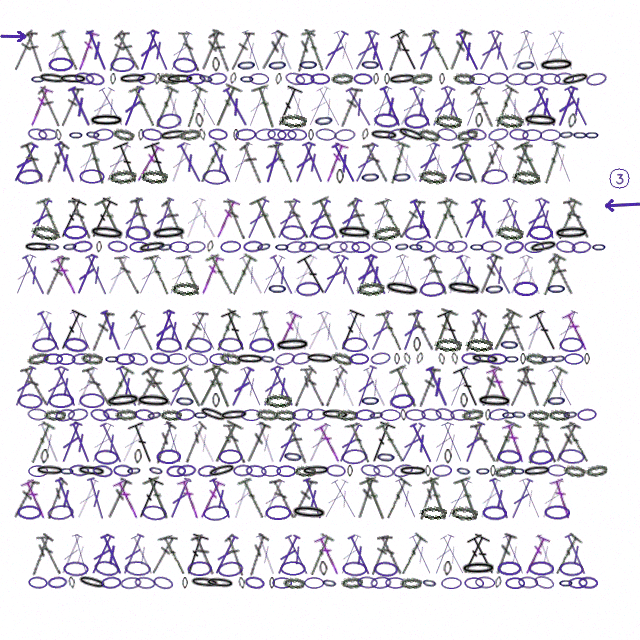chain: (383, 279, 421, 299), (445, 279, 483, 298), (104, 391, 142, 410), (88, 224, 126, 242), (150, 224, 188, 242), (395, 124, 427, 145), (197, 404, 229, 425), (290, 504, 328, 521), (522, 112, 559, 129), (336, 224, 373, 241), (206, 461, 238, 480), (76, 573, 108, 592), (371, 223, 401, 243), (538, 57, 575, 73), (553, 225, 590, 241), (274, 337, 311, 353), (135, 393, 172, 409), (476, 393, 513, 409), (30, 223, 60, 242), (560, 70, 591, 88), (88, 113, 125, 128), (460, 561, 497, 576), (528, 238, 559, 255), (93, 559, 120, 578), (158, 127, 189, 143), (137, 239, 168, 255), (495, 112, 524, 129), (108, 168, 137, 185), (418, 168, 447, 185), (495, 224, 524, 241), (356, 280, 385, 297), (186, 336, 213, 354), (217, 560, 244, 578), (172, 56, 198, 74), (156, 112, 182, 130), (63, 336, 89, 354), (141, 504, 167, 522), (37, 71, 68, 86), (189, 575, 220, 590), (16, 168, 43, 185), (481, 168, 508, 185), (341, 448, 368, 465), (558, 448, 585, 465), (47, 504, 74, 521), (124, 560, 151, 577), (434, 113, 462, 129), (512, 169, 540, 185), (450, 505, 478, 521), (373, 112, 399, 129), (280, 224, 306, 241), (404, 224, 430, 241), (387, 72, 418, 86), (76, 464, 107, 478), (202, 169, 229, 185), (419, 281, 446, 297), (279, 113, 307, 128), (369, 128, 399, 142), (140, 169, 168, 184), (171, 281, 199, 296), (434, 337, 462, 352), (465, 337, 493, 352), (470, 352, 500, 366), (264, 393, 292, 408), (219, 408, 249, 422), (522, 464, 552, 478), (419, 505, 447, 520), (205, 576, 235, 590), (125, 225, 151, 241), (156, 337, 182, 353), (17, 393, 43, 409), (389, 393, 415, 409), (528, 449, 554, 465), (203, 505, 229, 521), (63, 561, 89, 577), (373, 561, 399, 577), (26, 350, 50, 367), (330, 350, 354, 367), (404, 113, 429, 129), (296, 281, 321, 297), (32, 337, 57, 353), (218, 337, 243, 353), (249, 337, 274, 353), (94, 449, 119, 465), (497, 449, 522, 465), (482, 505, 507, 521), (342, 561, 367, 577), (559, 561, 584, 577), (487, 126, 510, 143), (118, 72, 148, 85), (79, 169, 105, 184), (342, 337, 368, 352), (305, 352, 335, 365), (48, 393, 74, 408), (79, 393, 105, 408), (320, 408, 350, 421), (35, 464, 65, 477), (301, 464, 331, 477), (265, 505, 291, 520), (544, 505, 570, 520), (280, 561, 306, 576), (528, 561, 554, 576), (417, 127, 441, 143), (455, 127, 479, 143), (493, 463, 517, 479), (48, 57, 73, 72), (110, 57, 135, 72), (63, 225, 88, 240), (311, 225, 336, 240), (528, 225, 553, 240), (513, 281, 538, 296), (559, 337, 584, 352), (156, 449, 181, 464), (218, 449, 243, 464), (17, 505, 42, 520), (187, 561, 212, 576), (497, 561, 522, 576), (313, 112, 335, 129), (453, 168, 475, 185), (434, 406, 456, 423), (282, 448, 304, 465), (392, 462, 414, 479), (533, 574, 555, 591), (585, 71, 608, 87), (372, 463, 395, 479), (58, 73, 88, 85), (165, 73, 195, 85), (23, 241, 53, 253), (235, 353, 265, 365), (398, 465, 428, 477), (515, 57, 537, 73), (84, 71, 106, 87), (284, 71, 306, 87), (391, 169, 413, 185), (503, 239, 525, 255), (127, 351, 149, 367), (187, 351, 209, 367), (274, 351, 296, 367), (174, 393, 196, 409), (54, 407, 76, 423), (89, 407, 111, 423), (375, 449, 397, 465), (152, 575, 174, 591), (410, 71, 433, 86), (112, 127, 135, 142), (178, 127, 201, 142), (219, 351, 242, 366), (461, 407, 484, 422), (585, 463, 608, 478), (236, 57, 257, 73), (267, 57, 288, 73), (360, 169, 381, 185), (484, 281, 505, 297), (141, 127, 163, 142), (436, 127, 458, 142), (67, 407, 89, 422), (488, 407, 510, 422), (563, 464, 586, 478), (298, 57, 319, 72), (360, 57, 381, 72), (74, 71, 95, 86), (137, 71, 158, 86), (27, 127, 48, 142), (387, 127, 408, 142), (466, 127, 487, 142), (415, 239, 436, 254), (434, 239, 455, 254), (447, 239, 468, 254), (555, 239, 576, 254), (267, 281, 288, 296), (546, 281, 567, 296), (499, 337, 520, 352), (291, 351, 312, 366), (370, 351, 391, 366), (360, 393, 381, 408), (546, 393, 567, 408), (102, 407, 123, 422), (360, 463, 381, 478), (244, 575, 265, 590), (506, 72, 528, 86), (334, 128, 356, 142), (285, 240, 307, 254), (245, 464, 267, 478), (120, 576, 142, 590), (134, 576, 156, 590), (523, 72, 544, 86), (185, 240, 206, 254), (298, 240, 319, 254), (327, 240, 348, 254), (339, 240, 360, 254), (571, 240, 592, 254), (71, 352, 92, 366), (134, 408, 155, 422), (92, 464, 113, 478), (197, 464, 218, 478), (158, 72, 180, 85), (331, 72, 353, 85), (453, 72, 475, 85), (315, 128, 337, 141), (81, 352, 103, 365), (525, 352, 547, 365), (115, 408, 137, 421), (256, 408, 278, 421), (341, 576, 363, 589), (370, 576, 392, 589), (207, 72, 228, 85), (93, 128, 114, 141), (235, 128, 256, 141), (255, 128, 276, 141), (72, 240, 93, 253), (107, 240, 128, 253), (220, 240, 241, 253), (481, 240, 502, 253), (27, 408, 48, 421), (175, 408, 196, 421), (292, 408, 313, 421), (421, 408, 442, 421), (176, 464, 197, 477), (47, 576, 68, 589), (357, 576, 378, 589), (197, 71, 215, 86), (255, 239, 273, 254), (147, 463, 165, 478), (44, 409, 66, 421), (160, 409, 182, 421), (274, 409, 296, 421), (336, 409, 358, 421), (527, 409, 549, 421), (548, 409, 570, 421), (294, 465, 316, 477), (283, 577, 305, 589), (400, 577, 422, 589), (488, 72, 508, 85), (554, 72, 574, 85), (38, 128, 58, 141), (208, 128, 228, 141), (267, 128, 287, 141), (287, 128, 307, 141), (509, 128, 529, 141), (243, 240, 263, 253), (150, 352, 170, 365), (461, 352, 481, 365), (307, 408, 327, 421), (577, 408, 597, 421), (69, 464, 89, 477), (113, 464, 133, 477), (233, 464, 253, 477), (326, 464, 346, 477), (432, 464, 452, 477), (547, 464, 567, 477), (28, 576, 48, 589), (101, 576, 121, 589), (475, 576, 495, 589), (518, 576, 538, 589), (578, 576, 598, 589), (469, 73, 490, 85), (540, 73, 561, 85), (540, 129, 561, 141), (241, 409, 262, 421), (380, 409, 401, 421), (405, 409, 426, 421), (450, 409, 471, 421), (385, 577, 406, 589), (441, 577, 462, 589), (186, 73, 206, 85), (249, 73, 269, 85), (295, 73, 315, 85), (310, 73, 330, 85), (353, 73, 373, 85), (277, 129, 297, 141), (522, 129, 542, 141), (129, 241, 149, 253), (169, 241, 189, 253), (351, 241, 371, 253), (371, 241, 391, 253), (524, 241, 544, 253), (43, 353, 63, 365), (56, 353, 76, 365), (115, 353, 135, 365), (167, 353, 187, 365), (209, 353, 229, 365), (349, 353, 369, 365), (487, 353, 507, 365), (564, 353, 584, 365), (355, 409, 375, 421), (28, 465, 48, 477), (166, 465, 186, 477), (261, 465, 281, 477), (276, 465, 296, 477), (272, 577, 292, 589), (304, 577, 324, 589), (464, 577, 484, 589), (505, 577, 525, 589), (568, 577, 588, 589), (157, 240, 174, 254), (259, 352, 276, 366), (540, 352, 557, 366), (146, 408, 163, 422), (368, 408, 385, 422), (455, 464, 472, 478), (321, 576, 338, 590), (421, 576, 438, 590), (558, 128, 575, 141), (44, 240, 61, 253), (550, 352, 567, 365), (562, 408, 579, 421), (85, 128, 101, 141), (62, 240, 78, 253), (316, 240, 332, 253), (394, 240, 410, 253), (511, 408, 527, 421), (126, 464, 142, 477), (30, 73, 46, 85), (239, 73, 255, 85), (68, 129, 84, 141), (572, 129, 588, 141), (584, 129, 600, 141), (274, 241, 290, 253), (408, 241, 424, 253), (469, 241, 485, 253), (591, 241, 607, 253), (104, 353, 120, 365), (504, 353, 520, 365), (193, 409, 209, 421), (501, 409, 517, 421), (59, 465, 75, 477), (475, 465, 491, 477), (510, 465, 526, 477), (558, 577, 574, 589), (567, 113, 577, 129), (195, 113, 204, 128), (40, 449, 49, 464), (319, 561, 328, 576), (443, 561, 452, 576), (212, 57, 220, 72), (475, 113, 483, 128), (336, 169, 344, 184), (413, 337, 421, 352), (212, 393, 220, 408), (460, 393, 468, 408), (134, 449, 142, 464), (444, 449, 452, 464), (198, 128, 207, 141), (403, 352, 412, 365), (415, 352, 424, 365), (229, 72, 237, 85), (361, 128, 369, 141), (206, 240, 214, 253), (451, 352, 459, 365), (68, 576, 76, 589), (494, 576, 502, 589), (438, 353, 446, 365), (238, 577, 246, 589), (154, 73, 161, 85), (275, 73, 282, 85), (55, 129, 62, 141), (400, 409, 407, 421), (110, 73, 116, 85), (373, 73, 379, 85), (384, 73, 390, 85), (439, 73, 445, 85), (138, 129, 144, 141), (233, 129, 239, 141), (308, 129, 314, 141), (96, 241, 102, 253), (394, 353, 400, 365), (520, 353, 526, 365), (584, 353, 590, 365), (485, 409, 491, 421), (347, 465, 353, 477), (425, 465, 431, 477), (490, 465, 496, 477), (182, 577, 188, 589), (269, 577, 275, 589)
double: (513, 140, 549, 186), (296, 252, 332, 298), (487, 308, 523, 354), (172, 364, 208, 410), (193, 364, 229, 410), (208, 420, 244, 466), (249, 195, 284, 242), (389, 28, 424, 74), (94, 196, 129, 242), (528, 308, 563, 354), (389, 364, 424, 410), (466, 532, 501, 578), (209, 83, 243, 130), (312, 195, 346, 242), (488, 419, 522, 466), (142, 475, 176, 522), (549, 532, 584, 577), (54, 196, 88, 242), (85, 196, 119, 242), (54, 308, 88, 354), (457, 532, 491, 578), (194, 140, 228, 185), (374, 196, 408, 241), (101, 364, 135, 409), (535, 364, 569, 409), (374, 420, 408, 465), (395, 532, 429, 577), (271, 84, 304, 130), (452, 140, 485, 186), (436, 308, 469, 354), (204, 364, 237, 410), (452, 364, 485, 410), (132, 476, 165, 522), (359, 476, 392, 522), (141, 365, 176, 408), (488, 196, 521, 241), (204, 252, 237, 297), (225, 252, 258, 297), (560, 420, 593, 465), (380, 476, 413, 521), (157, 532, 190, 577), (112, 140, 144, 186), (220, 308, 252, 354), (334, 308, 366, 354), (427, 308, 459, 354), (127, 420, 159, 466), (365, 420, 397, 466), (422, 476, 454, 522), (453, 476, 485, 522), (85, 85, 118, 129), (95, 85, 128, 129), (188, 85, 221, 129), (343, 85, 376, 129), (395, 85, 428, 129), (101, 141, 134, 185), (132, 141, 165, 185), (318, 253, 351, 297), (545, 365, 578, 409), (328, 477, 361, 521), (442, 477, 475, 521), (50, 28, 82, 73), (422, 28, 454, 73), (536, 28, 568, 73), (127, 84, 159, 129), (148, 84, 180, 129), (561, 84, 593, 129), (427, 196, 459, 241), (551, 196, 583, 241), (210, 308, 242, 353), (375, 308, 407, 353), (267, 364, 299, 409), (24, 420, 56, 465), (236, 476, 268, 521), (303, 532, 335, 577), (251, 84, 282, 130), (143, 140, 174, 186), (257, 29, 289, 73), (319, 29, 351, 73), (350, 29, 382, 73), (474, 29, 506, 73), (546, 29, 578, 73), (220, 85, 252, 129), (313, 85, 345, 129), (499, 85, 531, 129), (9, 141, 41, 185), (174, 141, 206, 185), (391, 141, 423, 185), (189, 197, 221, 241), (520, 197, 552, 241), (236, 253, 268, 297), (288, 253, 320, 297), (484, 253, 516, 297), (344, 309, 376, 353), (313, 421, 345, 465), (396, 421, 428, 465), (319, 477, 351, 521), (437, 533, 469, 577), (65, 84, 96, 129), (303, 84, 334, 129), (489, 84, 520, 129), (267, 140, 298, 185), (437, 196, 468, 241), (143, 252, 174, 297), (381, 252, 412, 297), (536, 252, 567, 297), (344, 420, 375, 465), (86, 532, 117, 577), (406, 532, 437, 577), (499, 532, 530, 577), (82, 140, 112, 186), (180, 532, 210, 578), (112, 29, 144, 72), (453, 29, 484, 73), (427, 85, 458, 129), (329, 141, 360, 185), (350, 141, 381, 185), (443, 141, 474, 185), (272, 197, 303, 241), (303, 197, 334, 241), (468, 197, 499, 241), (19, 253, 50, 297), (50, 253, 81, 297), (133, 253, 164, 297), (164, 253, 195, 297), (257, 253, 288, 297), (267, 253, 298, 297), (412, 253, 443, 297), (443, 253, 474, 297), (453, 253, 484, 297), (505, 253, 536, 297), (34, 309, 65, 353), (117, 309, 148, 353), (189, 309, 220, 353), (272, 309, 303, 353), (303, 309, 334, 353), (561, 309, 592, 353), (40, 365, 71, 409), (164, 365, 195, 409), (226, 365, 257, 409), (360, 365, 391, 409), (86, 421, 117, 465), (117, 421, 148, 465), (189, 421, 220, 465), (334, 421, 365, 465), (551, 421, 582, 465), (112, 477, 143, 521), (195, 477, 226, 521), (210, 533, 241, 577), (272, 533, 303, 577), (282, 533, 313, 577), (313, 533, 344, 577), (520, 533, 551, 577), (82, 28, 112, 73), (268, 28, 298, 73), (376, 84, 406, 129), (531, 84, 561, 129), (35, 196, 65, 241), (211, 196, 241, 241), (335, 196, 365, 241), (175, 252, 205, 297), (66, 308, 96, 353), (51, 364, 81, 409), (237, 364, 267, 409), (423, 364, 453, 409), (485, 364, 515, 409), (206, 476, 236, 521), (56, 532, 86, 577), (97, 532, 127, 577), (474, 141, 505, 184), (133, 365, 164, 408), (165, 29, 195, 73), (521, 85, 551, 129), (206, 141, 236, 185), (413, 141, 443, 185), (423, 141, 453, 185), (485, 141, 515, 185), (25, 197, 55, 241), (242, 197, 272, 241), (407, 197, 437, 241), (82, 253, 112, 297), (103, 253, 133, 297), (330, 253, 360, 297), (361, 253, 391, 297), (423, 253, 453, 297), (516, 253, 546, 297), (25, 309, 55, 353), (314, 309, 344, 353), (366, 309, 396, 353), (469, 309, 499, 353), (330, 365, 360, 409), (97, 421, 127, 465), (242, 421, 272, 465), (273, 421, 303, 465), (304, 421, 334, 465), (407, 421, 437, 465), (20, 477, 50, 521), (72, 477, 102, 521), (103, 477, 133, 521), (258, 477, 288, 521), (506, 477, 536, 521), (537, 477, 567, 521), (128, 533, 158, 577), (190, 533, 220, 577), (345, 533, 375, 577), (144, 28, 173, 73), (330, 28, 359, 73), (485, 28, 514, 73), (506, 28, 535, 73), (25, 84, 54, 129), (180, 84, 209, 129), (407, 84, 436, 129), (438, 84, 467, 129), (552, 84, 581, 129), (20, 140, 49, 185), (51, 140, 80, 185), (299, 140, 328, 185), (537, 140, 566, 185), (459, 196, 488, 241), (500, 196, 529, 241), (10, 252, 39, 297), (72, 252, 101, 297), (196, 252, 225, 297), (351, 252, 380, 297), (475, 252, 504, 297), (97, 308, 126, 353), (242, 308, 271, 353), (252, 308, 281, 353), (283, 308, 312, 353), (552, 308, 581, 353), (10, 364, 39, 409), (72, 364, 101, 409), (113, 364, 142, 409), (258, 364, 287, 409), (444, 364, 473, 409), (35, 420, 64, 465), (56, 420, 85, 465), (438, 420, 467, 465), (521, 420, 550, 465), (165, 476, 194, 521), (392, 476, 421, 521), (475, 476, 504, 521), (516, 476, 545, 521), (118, 532, 147, 577), (335, 532, 364, 577), (562, 532, 591, 577), (547, 253, 577, 296), (20, 365, 50, 408), (82, 365, 112, 408), (10, 477, 40, 520), (469, 85, 498, 129), (459, 309, 488, 353), (42, 28, 70, 73), (197, 28, 225, 73), (300, 28, 328, 73), (414, 28, 442, 73), (445, 28, 473, 73), (517, 28, 545, 73), (119, 84, 147, 129), (243, 84, 271, 129), (284, 84, 312, 129), (367, 84, 395, 129), (460, 84, 488, 129), (73, 140, 101, 185), (166, 140, 194, 185), (228, 140, 256, 185), (290, 140, 318, 185), (321, 140, 349, 185), (383, 140, 411, 185), (548, 140, 576, 185), (181, 196, 209, 241), (367, 196, 395, 241), (532, 196, 560, 241), (393, 252, 421, 297), (150, 308, 178, 353), (160, 308, 188, 353), (398, 308, 426, 353), (352, 364, 380, 409), (517, 364, 545, 409), (67, 420, 95, 465), (429, 420, 457, 465), (460, 420, 488, 465), (501, 420, 529, 465), (52, 476, 80, 521), (176, 476, 204, 521), (486, 476, 514, 521), (429, 532, 457, 577), (532, 532, 560, 577), (41, 141, 70, 184), (397, 197, 426, 240), (128, 309, 157, 352), (289, 477, 318, 520), (149, 533, 178, 576), (238, 141, 266, 185), (362, 141, 390, 185), (160, 197, 188, 241), (346, 197, 374, 241), (563, 197, 591, 241), (42, 253, 70, 297), (408, 309, 436, 353), (501, 309, 529, 353), (470, 421, 498, 465), (269, 477, 297, 521), (26, 533, 54, 577), (73, 28, 100, 73), (135, 28, 162, 73), (238, 28, 265, 73), (362, 28, 389, 73), (119, 196, 146, 241), (129, 196, 156, 241), (150, 196, 177, 241), (522, 308, 549, 353), (383, 364, 410, 409), (253, 420, 280, 465), (300, 476, 327, 521), (253, 532, 280, 577), (491, 532, 518, 577), (36, 85, 64, 128), (114, 253, 142, 296), (181, 309, 209, 352), (290, 365, 318, 408), (321, 365, 349, 408), (36, 533, 64, 576), (207, 29, 234, 73), (88, 309, 115, 353), (150, 421, 177, 465), (284, 421, 311, 465), (243, 533, 270, 577), (377, 533, 404, 577), (161, 84, 187, 129), (260, 140, 286, 185), (477, 364, 503, 409), (229, 476, 255, 521), (353, 476, 379, 521), (549, 476, 575, 521), (11, 29, 38, 72), (228, 29, 255, 72), (284, 197, 311, 240), (300, 365, 327, 408), (507, 365, 534, 408), (181, 421, 208, 464), (337, 85, 363, 129), (415, 365, 441, 409), (161, 420, 186, 465), (84, 476, 109, 521), (68, 532, 93, 577), (384, 29, 410, 72), (58, 85, 84, 128), (533, 421, 559, 464), (43, 477, 69, 520), (22, 29, 47, 73), (291, 29, 316, 73), (508, 141, 533, 185), (68, 197, 93, 241), (223, 197, 248, 241), (223, 421, 248, 465), (415, 477, 440, 521), (223, 533, 248, 577), (368, 533, 393, 577), (106, 29, 130, 73), (178, 29, 202, 73)
noise: (607, 166, 632, 191), (602, 197, 640, 213), (0, 31, 28, 42)
